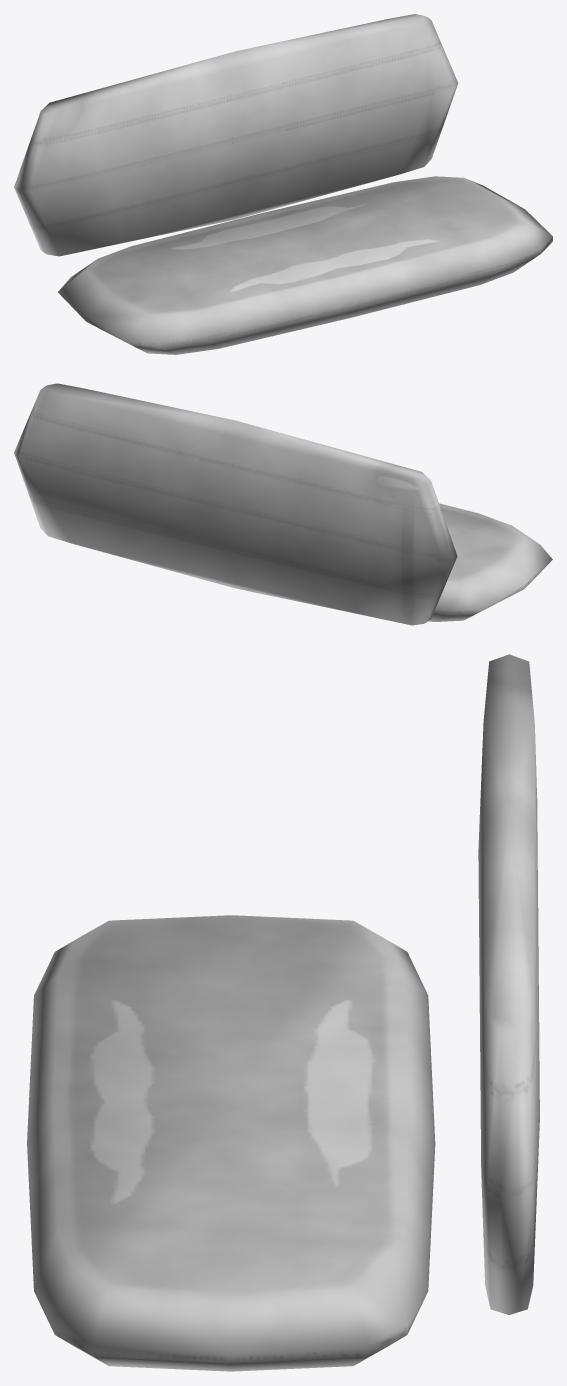
File: EstucheGuitarra_C1.fbx
3 renders of one model, top to bottom at view 1: azimuth 30°, elevation 25°; view 2: azimuth 150°, elevation 25°; view 3: azimuth 270°, elevation 25°, orthographic. The views are drawn at different scales.
Visible parts, largest first — view 1: Civ_EstucheGuitarra_C1; view 2: Civ_EstucheGuitarra_C1; view 3: Civ_EstucheGuitarra_C1.
Part boxes in pixels (x1,y1,x2,y2): Civ_EstucheGuitarra_C1: (14, 14, 552, 354); Civ_EstucheGuitarra_C1: (14, 383, 552, 625); Civ_EstucheGuitarra_C1: (27, 654, 539, 1371).
Bounding box in the file's own units: 3.52 × 1.43 × 1.78.
